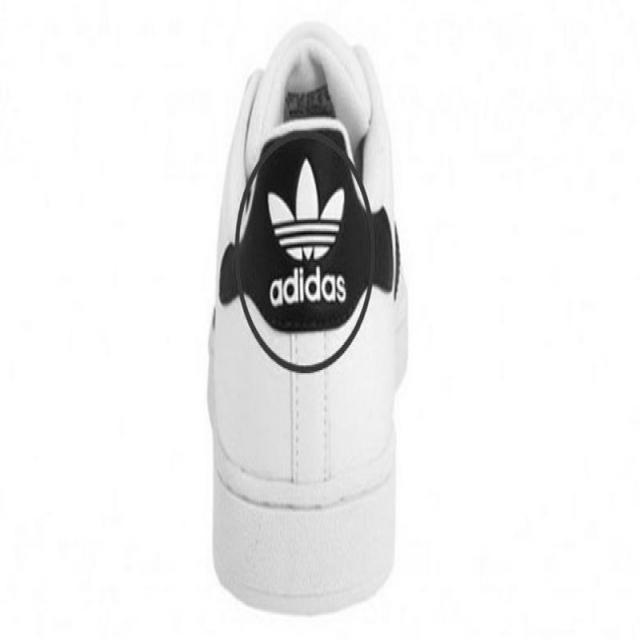Adidas: (263, 147, 354, 280)
